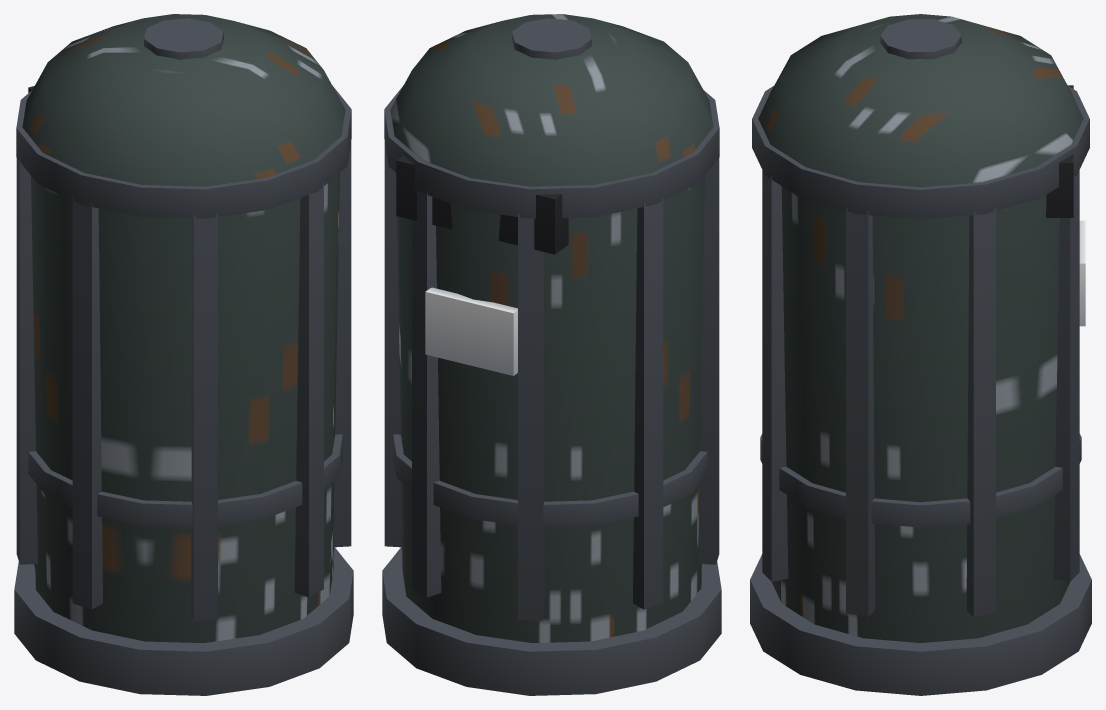
The model's file is ck_bin_street.fbx.
The picture shows the model from 3 angles, left to right: view 1: azimuth 30°, elevation 25°; view 2: azimuth 150°, elevation 25°; view 3: azimuth 270°, elevation 25°; orthographic projection.
Visible parts, largest first — view 1: ck_bin_street; view 2: ck_bin_street; view 3: ck_bin_street.
Part boxes in pixels (x1=…): ck_bin_street: x1=14, y1=14, x2=353, y2=695; ck_bin_street: x1=382, y1=14, x2=721, y2=695; ck_bin_street: x1=750, y1=14, x2=1091, y2=695.
Bounding box in the file's own units: 179 × 340 × 179.
